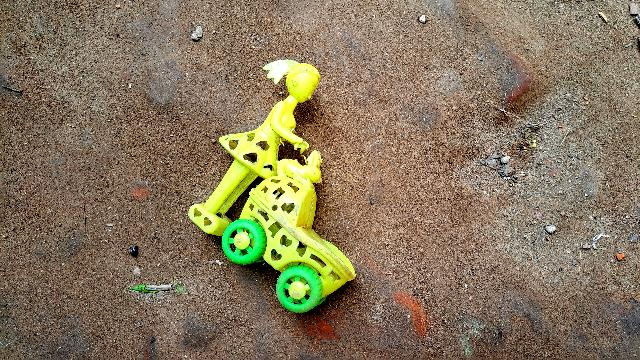hardplastic: (172, 60, 434, 322)
